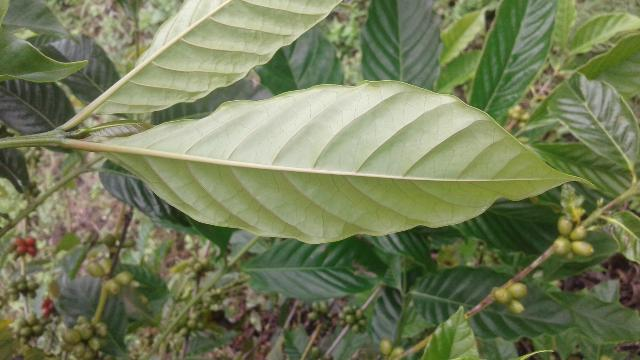healthy: (99, 79, 596, 245)
